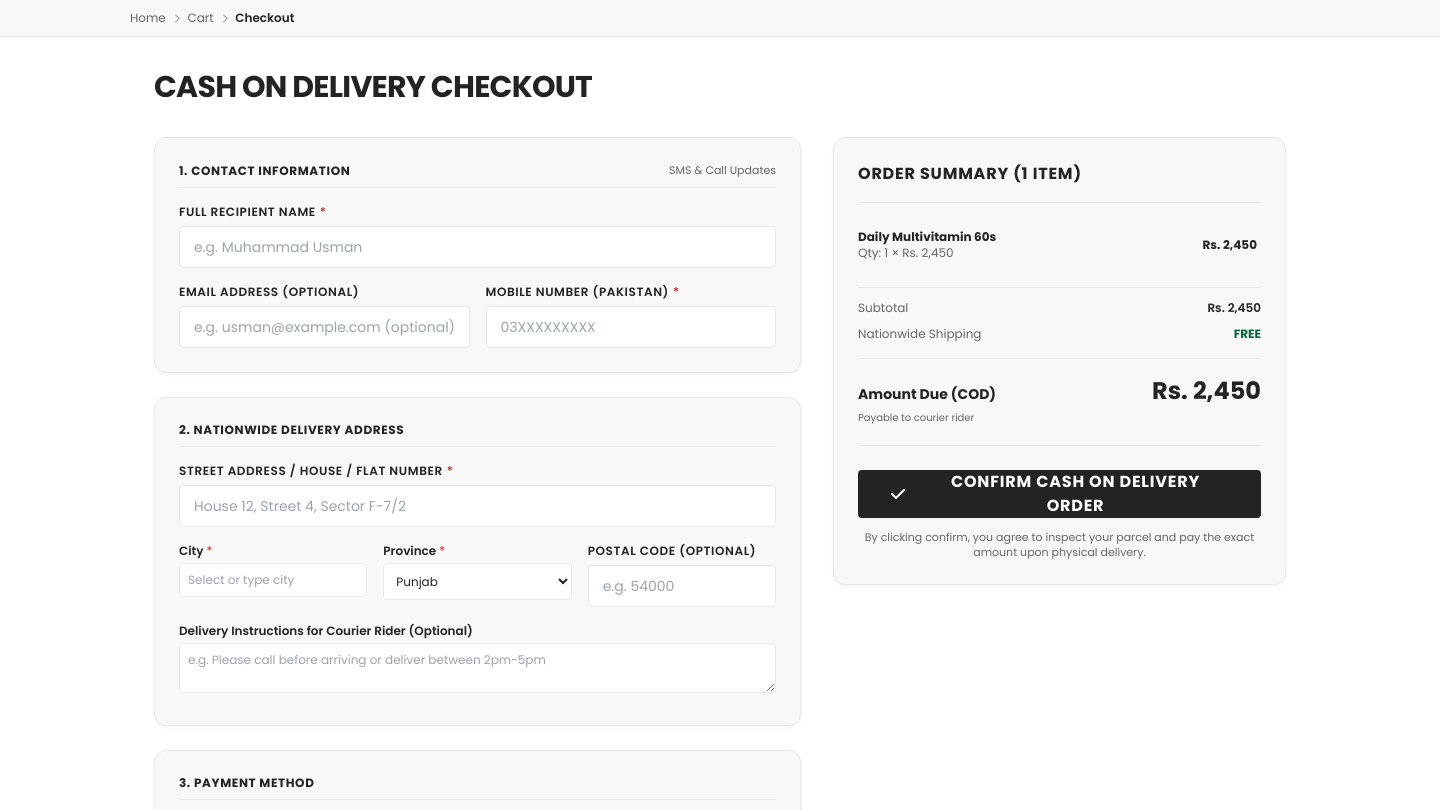
Phase 9: Full Automated Frontend UI & Invariants Suite › FORM-01 & FORM-02: validates Pakistani mobile format and hides honeypot trap
# Submit button
Click the button "Confirm Cash on Delivery Order": (1060, 494) [858, 470, 1261, 518]
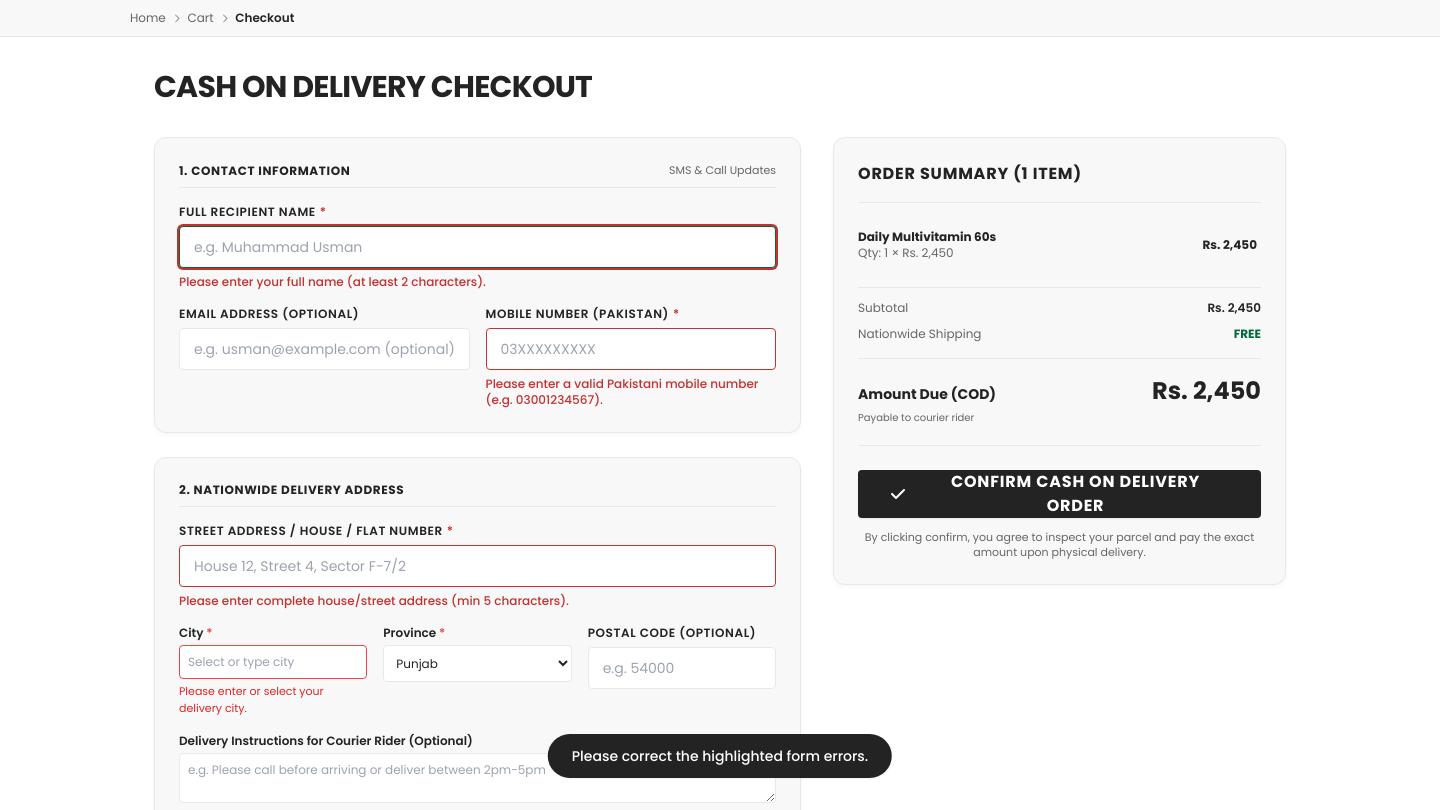
Result: the text "Please enter your full name (at least 2 characters)." is shown at [179, 273, 486, 290]
Result: the text "Please enter a valid Pakistani mobile number (e.g. 03001234567)." is shown at [486, 376, 776, 408]
